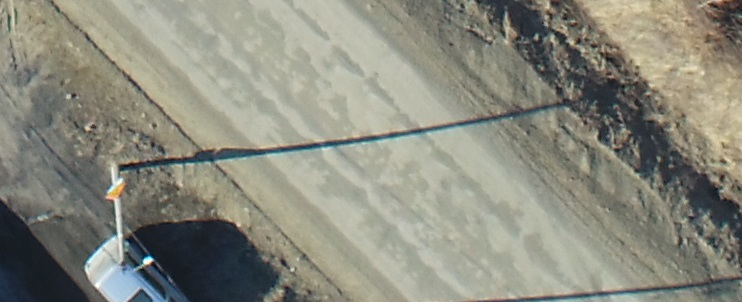opora: (104, 147, 228, 278)
